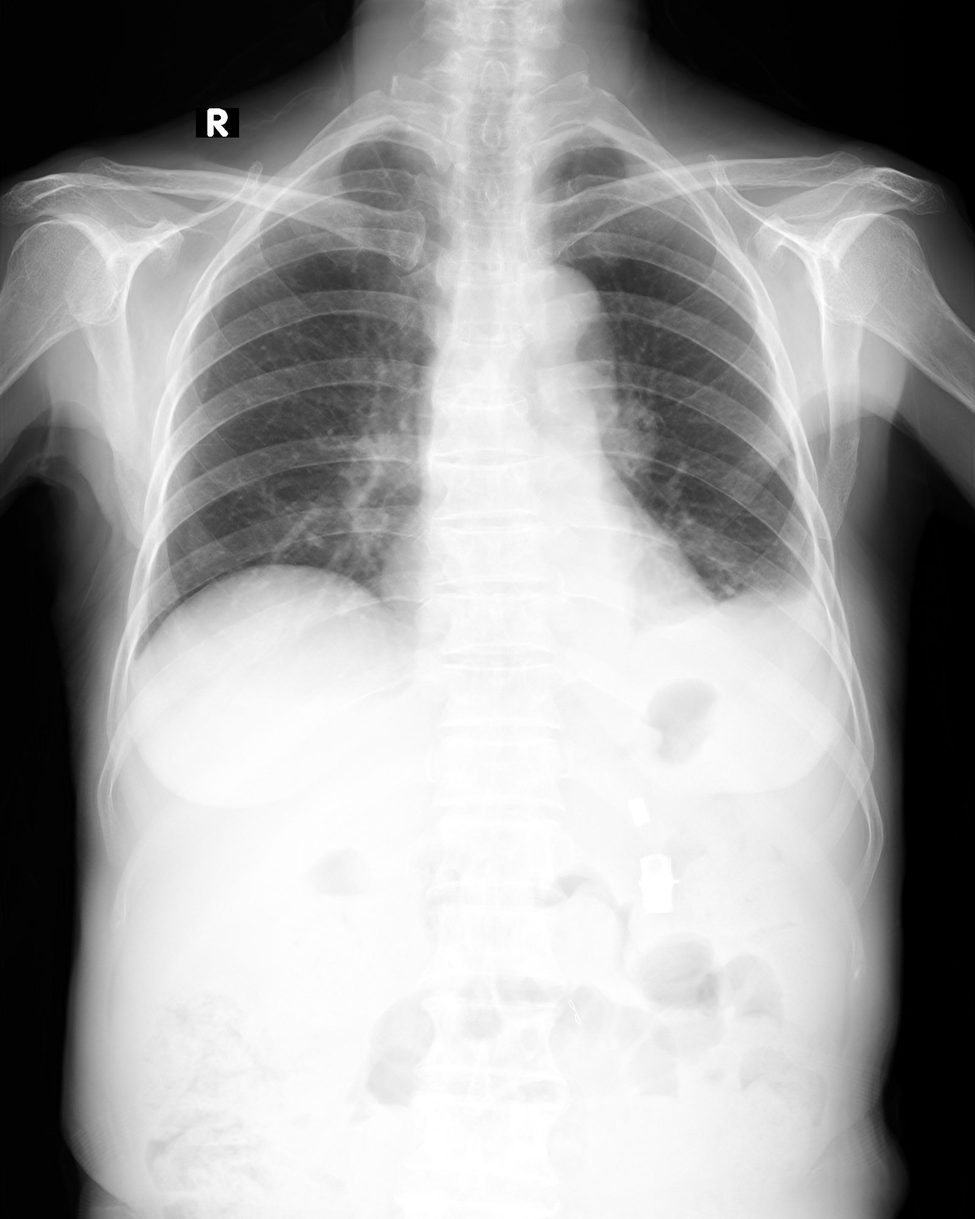Aortic enlargement: (510, 263, 614, 403)
